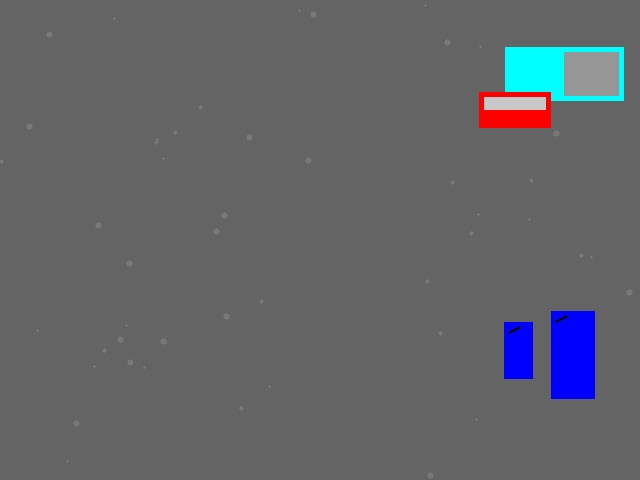car: (479, 92, 550, 127)
motorcycle: (551, 311, 594, 398), (504, 322, 532, 378)
truck: (505, 47, 623, 100)
